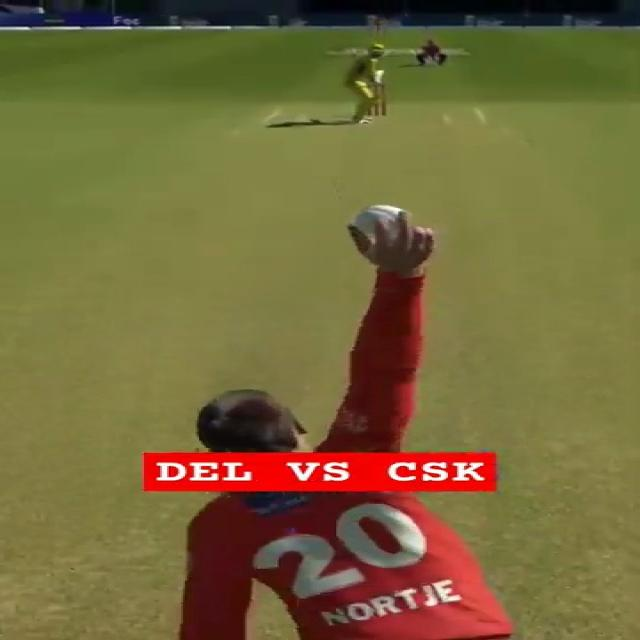ball: (350, 204, 409, 237)
